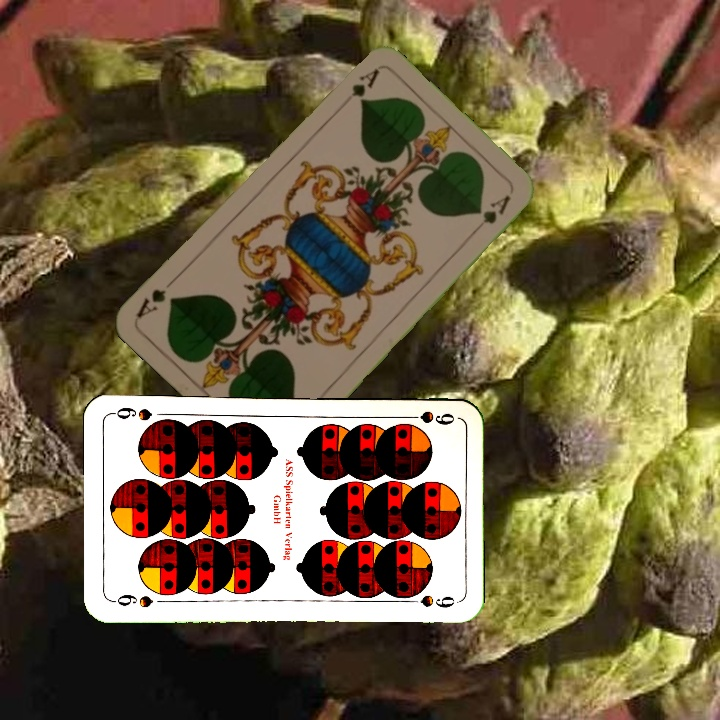GA: (347, 64, 382, 100)
S9: (398, 406, 457, 427), (109, 590, 156, 611)
